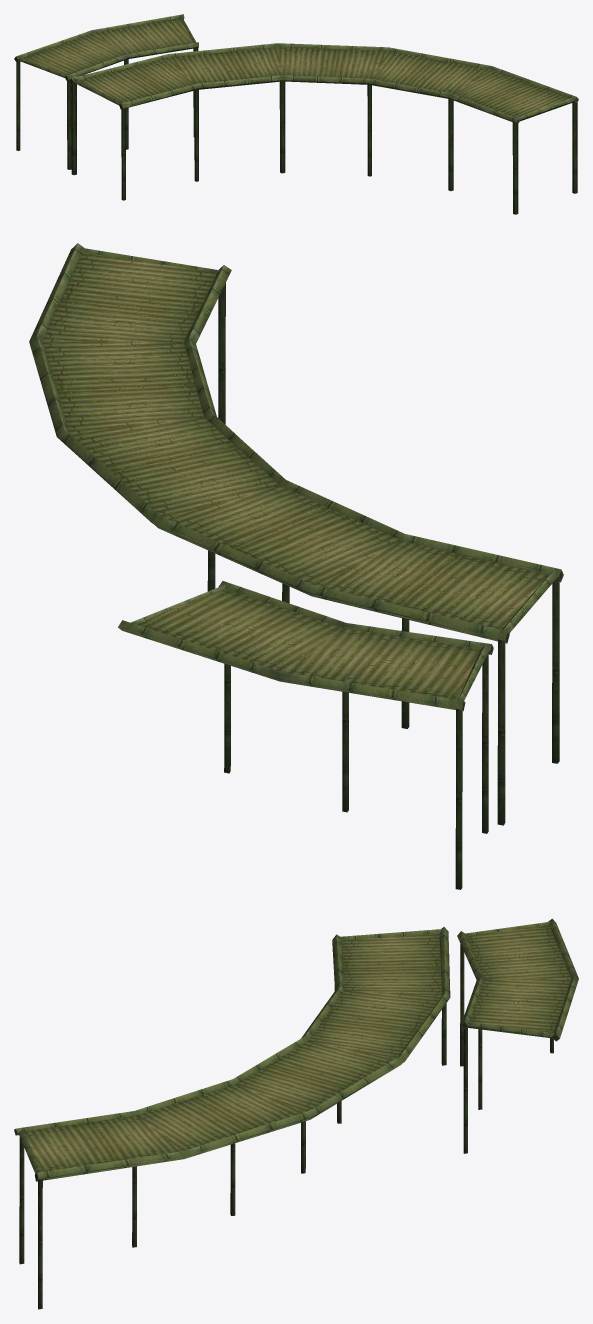
File: yw_yanziwu_pinjiezhutai.FBX
3 views of the same model, one above another, from view 1: azimuth 30°, elevation 25°; view 2: azimuth 150°, elevation 25°; view 3: azimuth 270°, elevation 25° (orthographic). The views are drawn at different scales.
Parts seen in each view (by area): view 1: yw_yanziwu_pinjiezhutai; view 2: yw_yanziwu_pinjiezhutai; view 3: yw_yanziwu_pinjiezhutai.
Part boxes in pixels (x1=…): yw_yanziwu_pinjiezhutai: x1=14, y1=14, x2=578, y2=214; yw_yanziwu_pinjiezhutai: x1=29, y1=243, x2=563, y2=889; yw_yanziwu_pinjiezhutai: x1=14, y1=918, x2=578, y2=1309.
Size of the model in its own units: 3403 by 831 by 3126.
